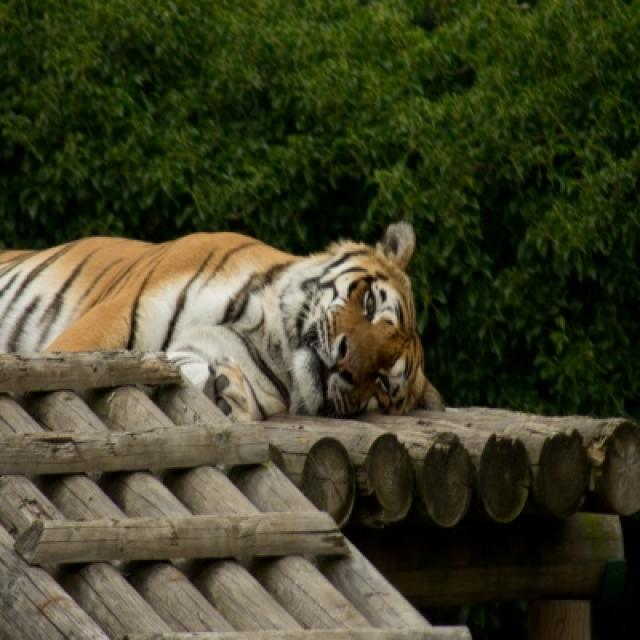Tiger: (0, 222, 441, 407)
